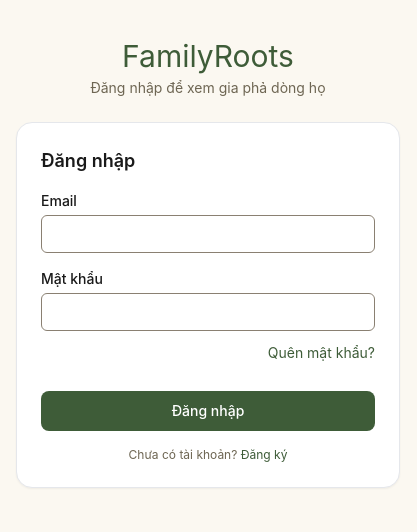
Test: signing in with an email Supabase has not confirmed › any other refusal stays on the form and shows what Supabase said
Type "lan@example.com" into the field labelled "Email". click: coordinates (208, 234)
box: [41,215,375,253]
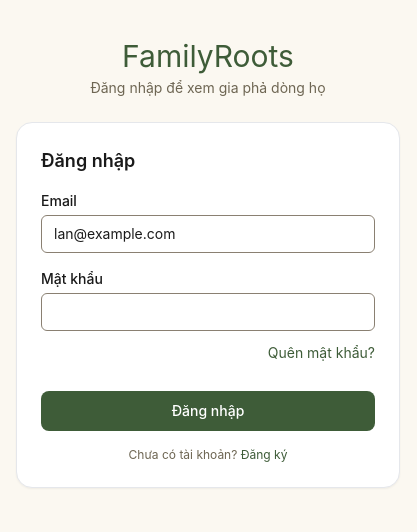
Type "correct horse battery" into the password field labelled "Mật khẩu". click: coordinates (208, 312)
box: [41,293,375,331]
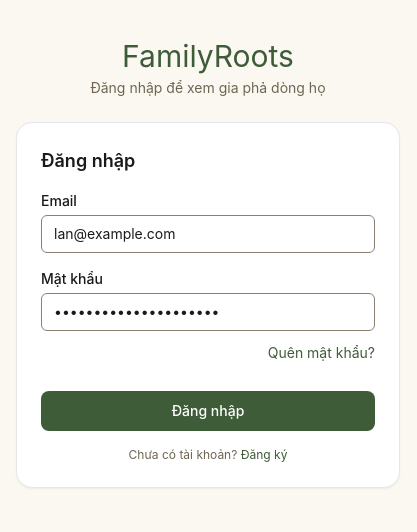
Click the button "Đăng nhập". click: coordinates (208, 411)
box: [41,391,375,431]
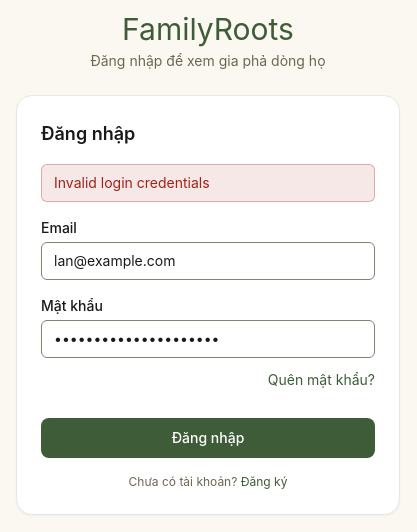
Result: the text "Invalid login credentials" is shown at [41,164,375,202]
